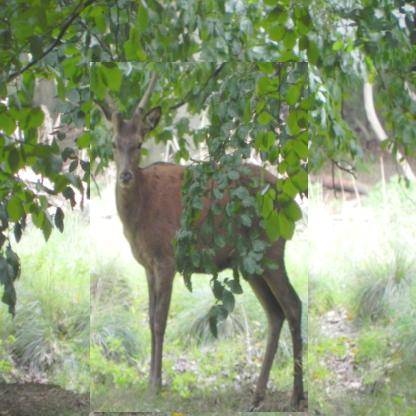Deer: (90, 62, 308, 412)
